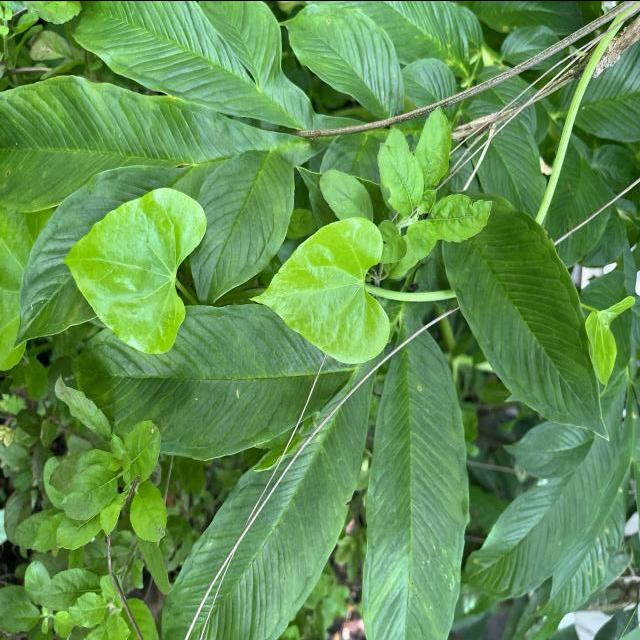Tinospora cordifolia: (58, 184, 209, 356), (247, 215, 394, 366)
